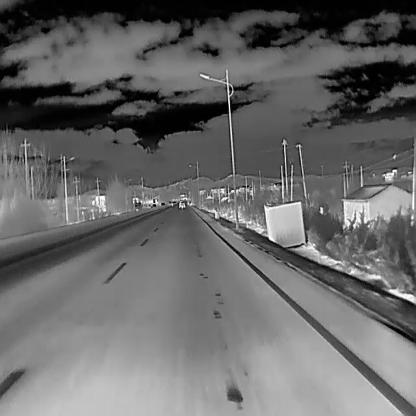car: (132, 202, 141, 212), (178, 200, 185, 209), (151, 204, 156, 206), (160, 202, 164, 204)
